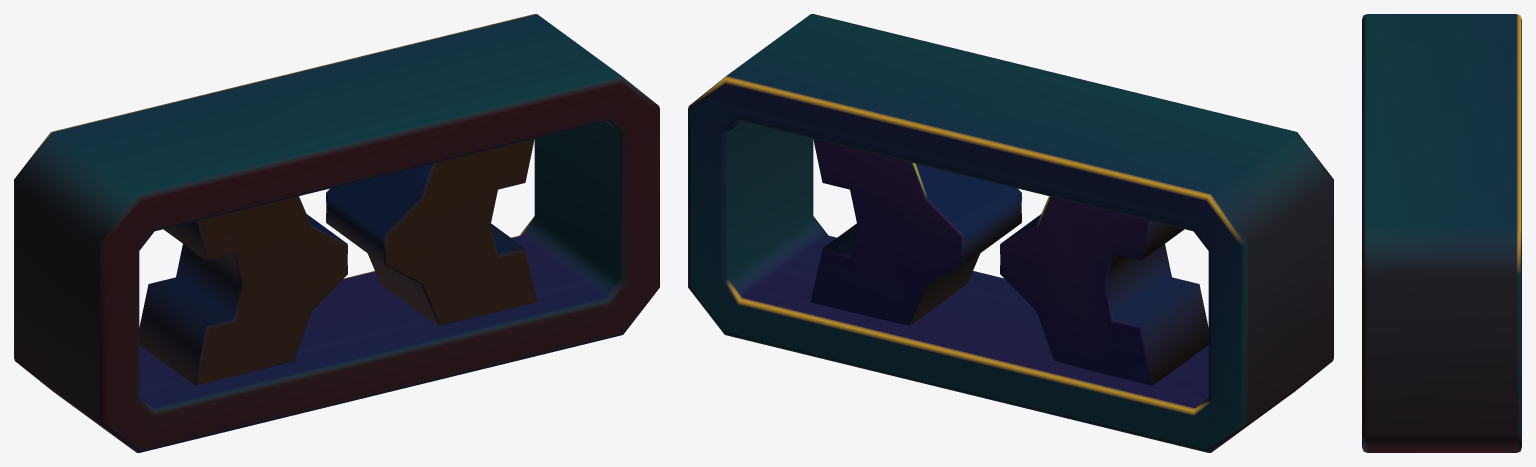
Rendered from Platform_Box_04.fbx.
3 renders of one model, left to right at view 1: azimuth 30°, elevation 25°; view 2: azimuth 150°, elevation 25°; view 3: azimuth 270°, elevation 25°, orthographic. The views are drawn at different scales.
Visible parts, largest first — view 1: Platform; view 2: Platform; view 3: Platform.
Boxes of the visible parts, x1=… form: Platform: x1=14, y1=14, x2=659, y2=452; Platform: x1=688, y1=14, x2=1333, y2=452; Platform: x1=1362, y1=14, x2=1521, y2=452.
Bounding box in the file's own units: 215 × 95 × 60.
